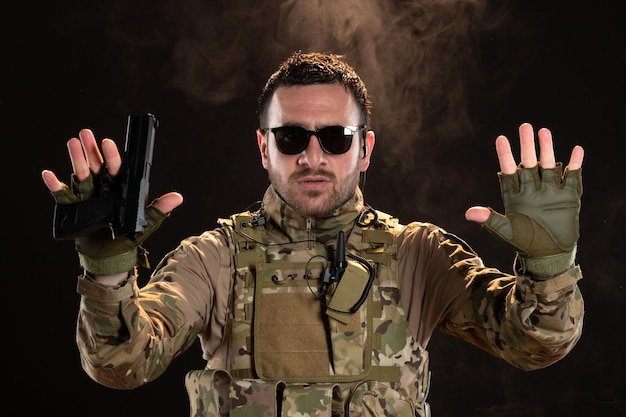gun: (50, 111, 161, 241)
